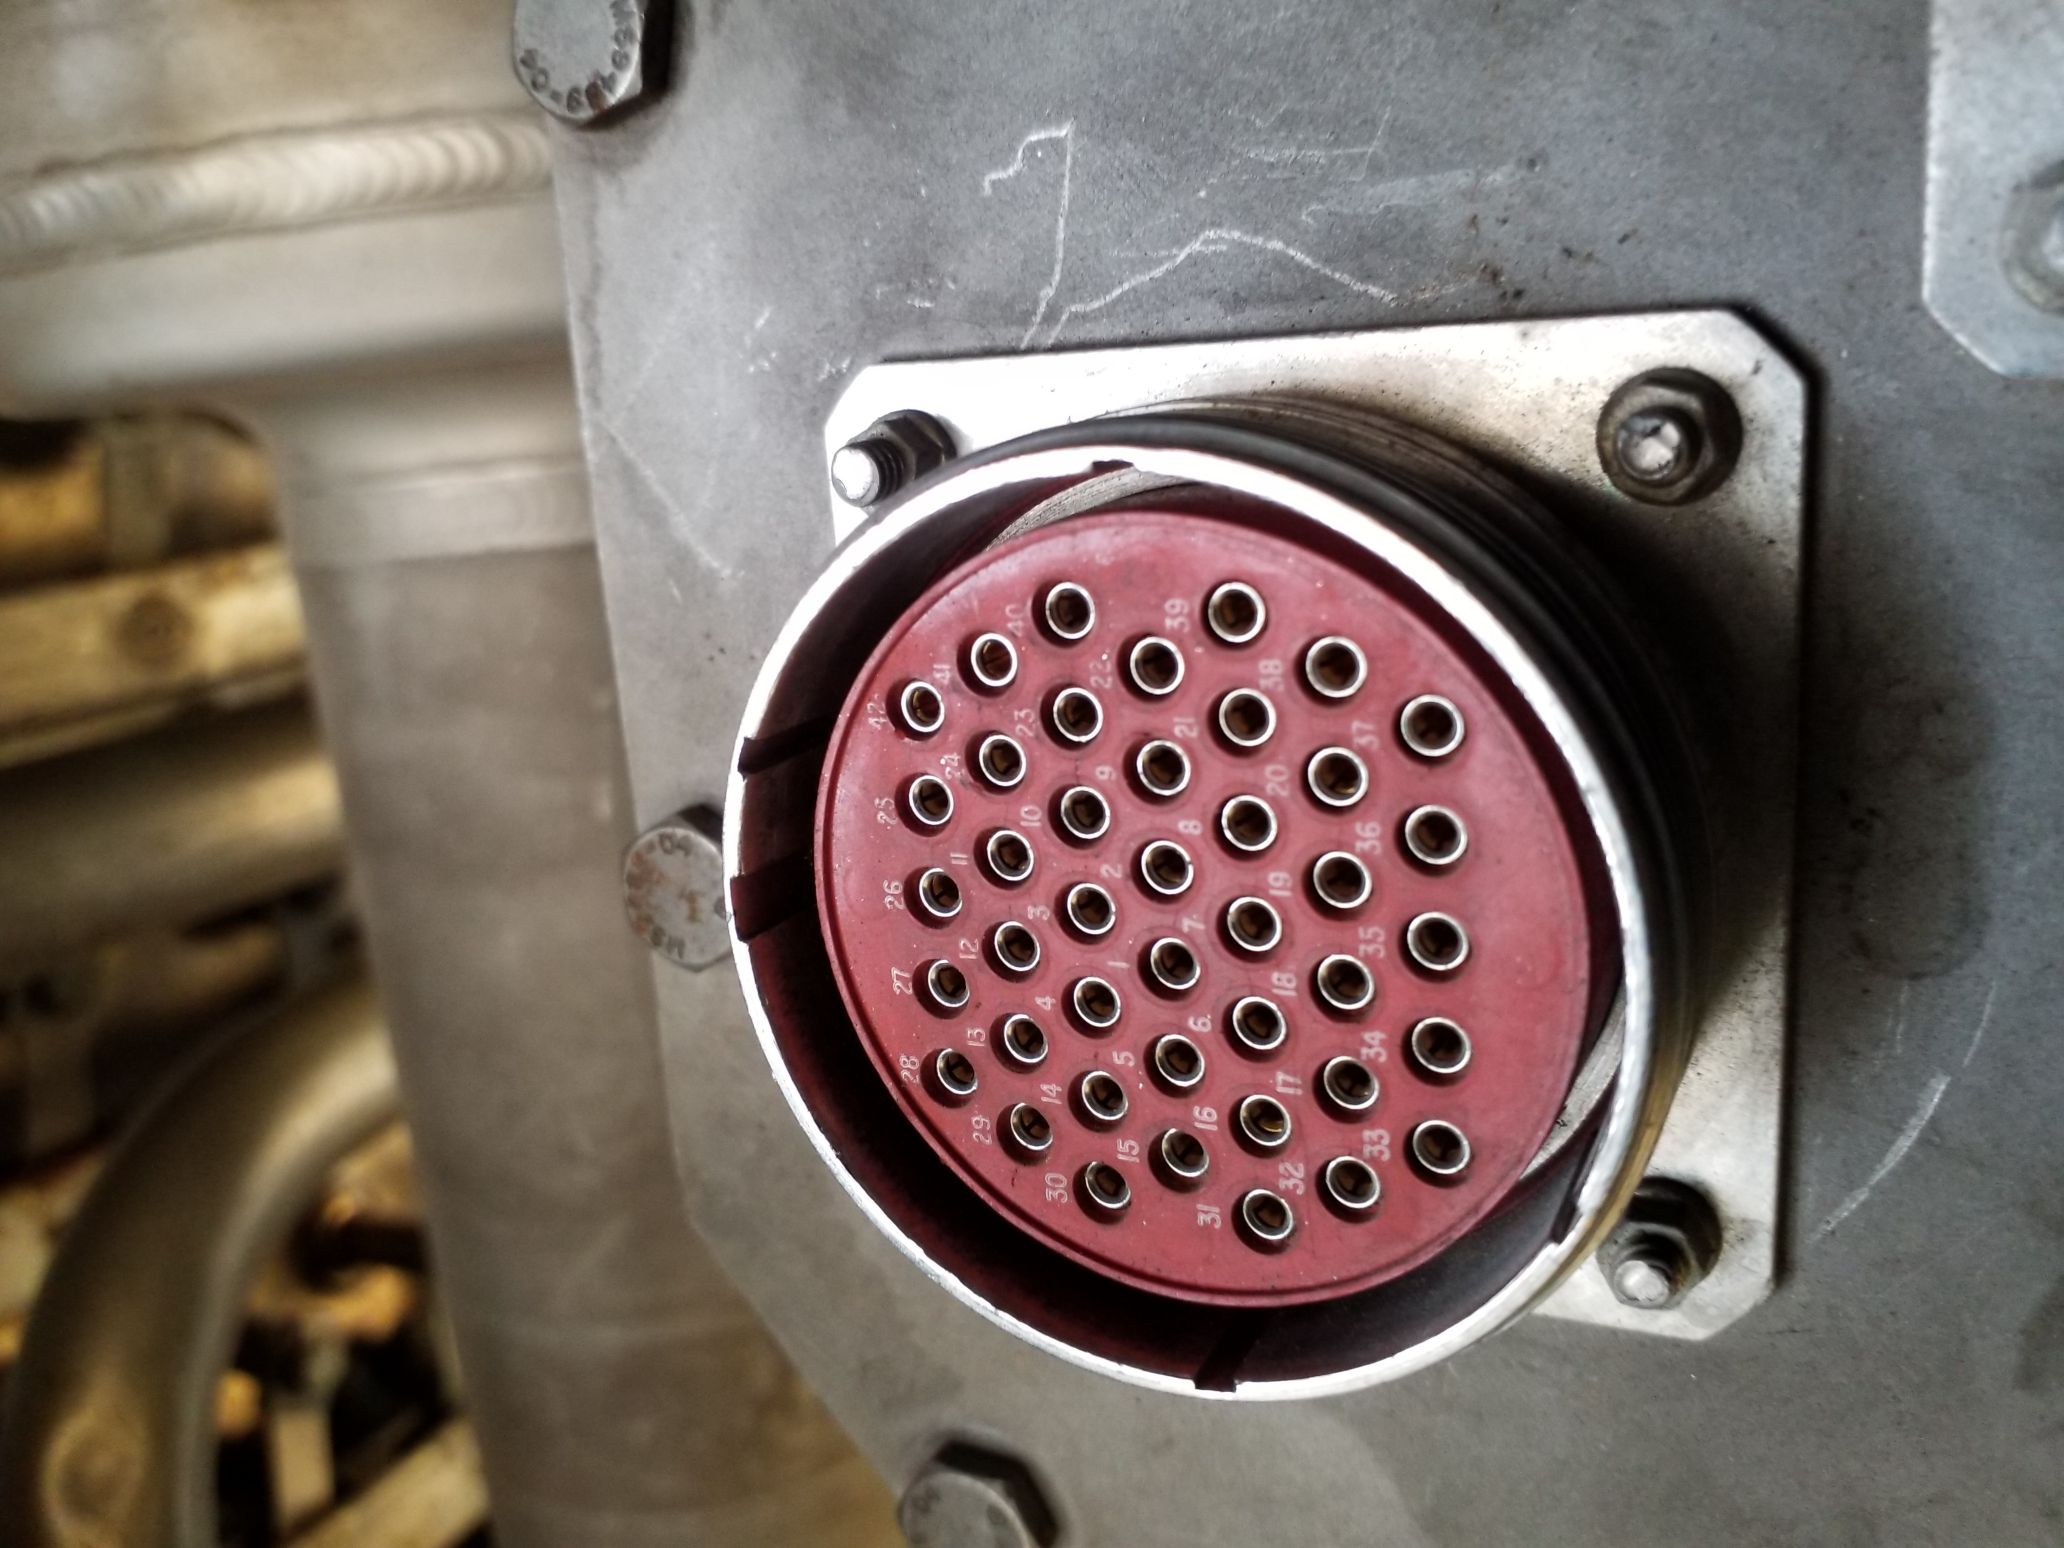inletnumbers: (718, 397, 1671, 1420)
